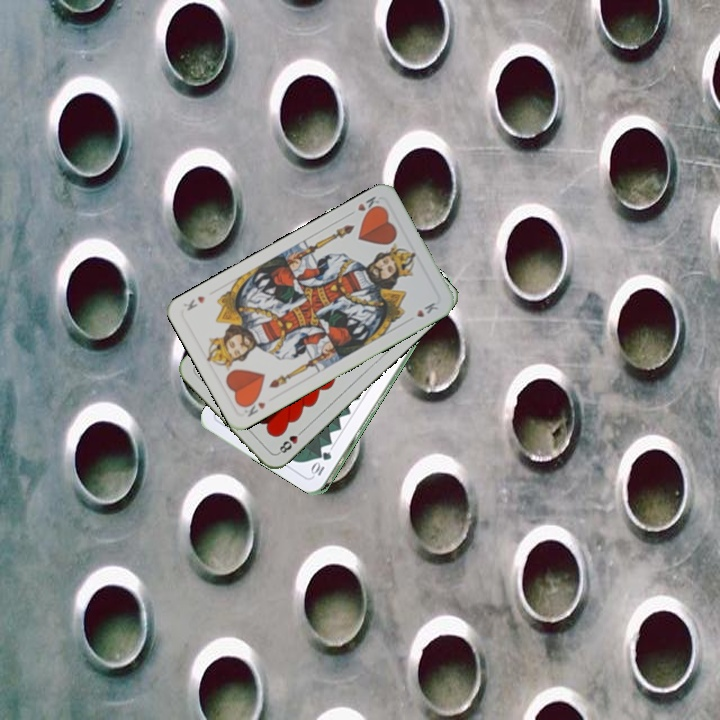G10: (309, 447, 334, 478)
H8: (274, 425, 307, 457)
HK: (353, 192, 385, 218), (238, 394, 268, 419)
